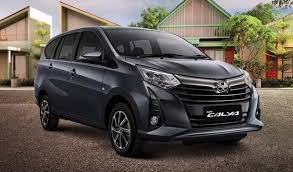mobil: (33, 28, 263, 153)
